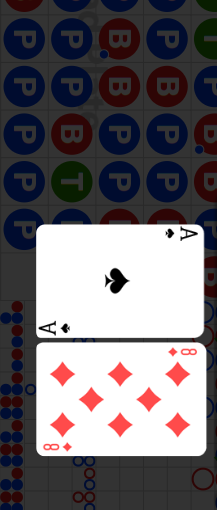8D: (42, 441, 74, 452)
AS: (162, 227, 199, 243)
